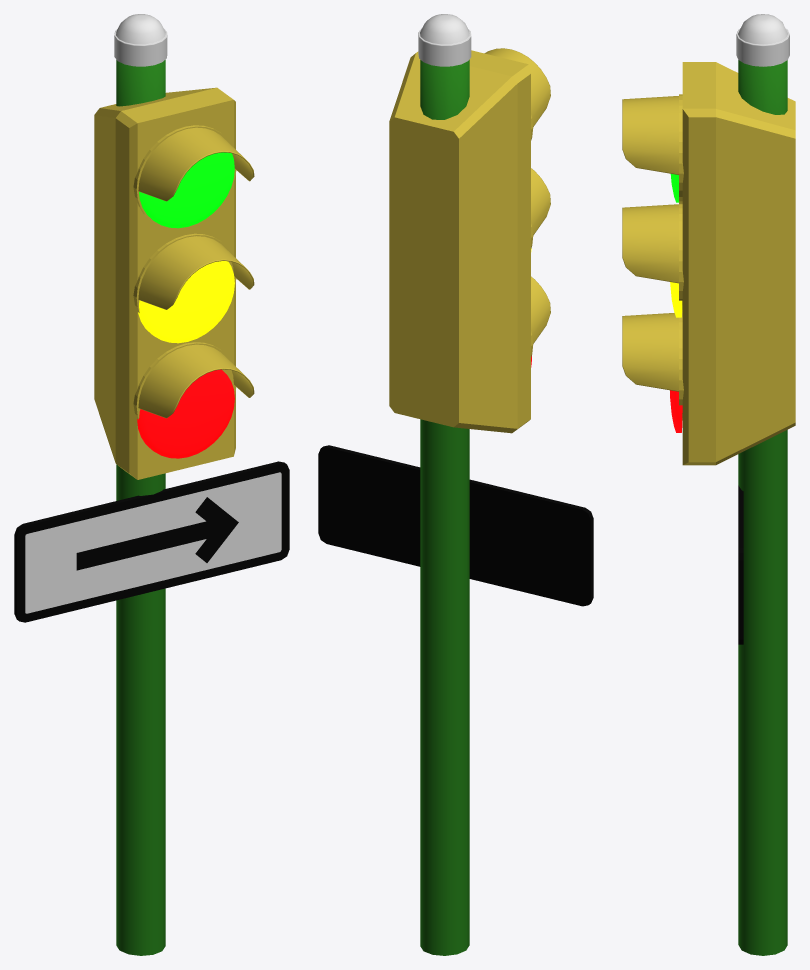
Rendered from semaforo_vertical.fbx.
The picture shows the model from 3 angles, left to right: view 1: azimuth 30°, elevation 25°; view 2: azimuth 150°, elevation 25°; view 3: azimuth 270°, elevation 25°; orthographic projection.
Visible parts, largest first — view 1: letrero, Semaforo, poste, Cubierta, rojo, amarillo, verde, tapa poste; view 2: Semaforo, poste, letrero, Cubierta, tapa poste; view 3: Semaforo, poste, Cubierta, tapa poste, letrero, rojo.
Boxes of the visible parts, x1,y1,x2,y2 form: letrero: [14, 461, 289, 622]; Semaforo: [94, 87, 235, 479]; poste: [116, 60, 165, 955]; Cubierta: [133, 125, 254, 419]; rojo: [137, 369, 234, 458]; amarillo: [138, 261, 234, 343]; verde: [139, 152, 234, 228]; tapa poste: [114, 14, 167, 66]; Semaforo: [389, 50, 530, 433]; poste: [420, 59, 469, 955]; letrero: [318, 445, 593, 606]; Cubierta: [484, 48, 550, 357]; tapa poste: [418, 14, 471, 66]; Semaforo: [682, 62, 795, 465]; poste: [738, 60, 787, 955]; Cubierta: [622, 94, 683, 420]; tapa poste: [736, 14, 789, 66]; letrero: [738, 485, 743, 644]; rojo: [670, 390, 682, 432].
Bounding box in the file's own units: 63.74 × 208 × 35.12.
